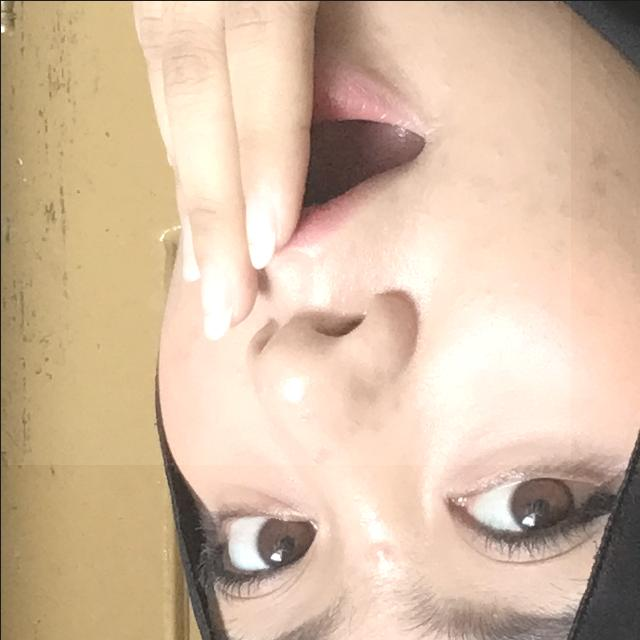ngantuk: (0, 0, 570, 464)
